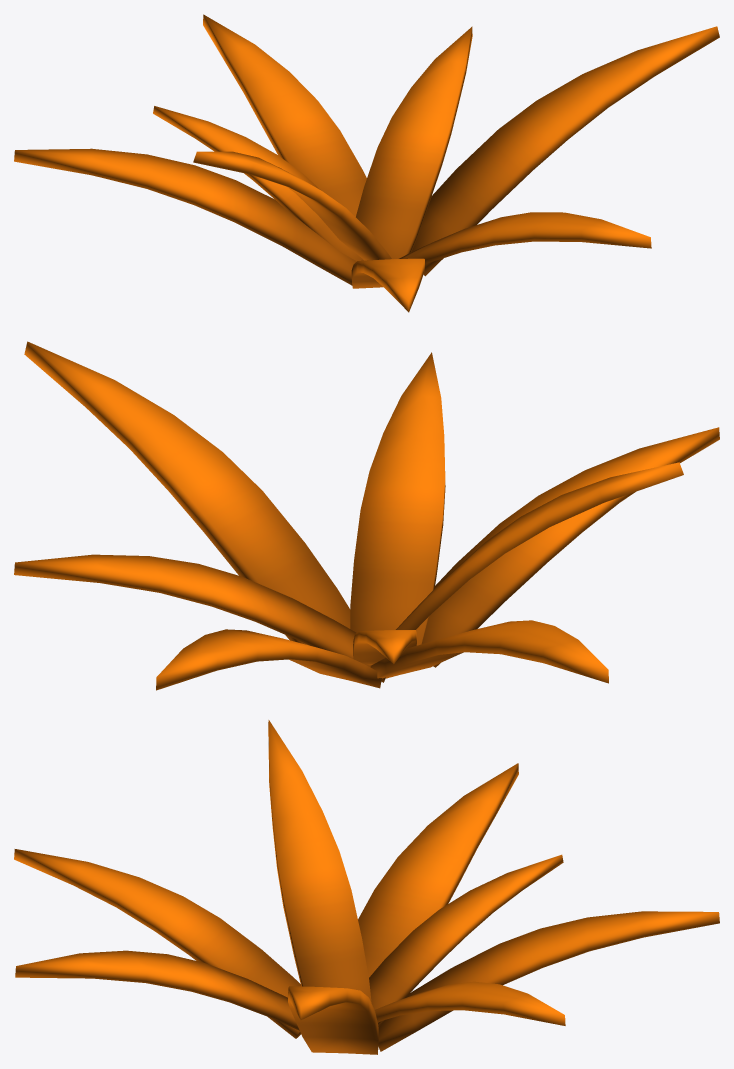
File: Grass_02.2.fbx
The picture shows the model from 3 angles, top to bottom: view 1: azimuth 30°, elevation 25°; view 2: azimuth 150°, elevation 25°; view 3: azimuth 270°, elevation 25°; orthographic projection. The views are drawn at different scales.
Parts seen in each view (by area): view 1: Grass_02.2; view 2: Grass_02.2; view 3: Grass_02.2.
Part boxes in pixels (x1=…): Grass_02.2: x1=14, y1=14, x2=719, y2=312; Grass_02.2: x1=14, y1=341, x2=719, y2=690; Grass_02.2: x1=14, y1=720, x2=719, y2=1054.
Size of the model in its own units: 65.38 by 64.44 by 20.91.
